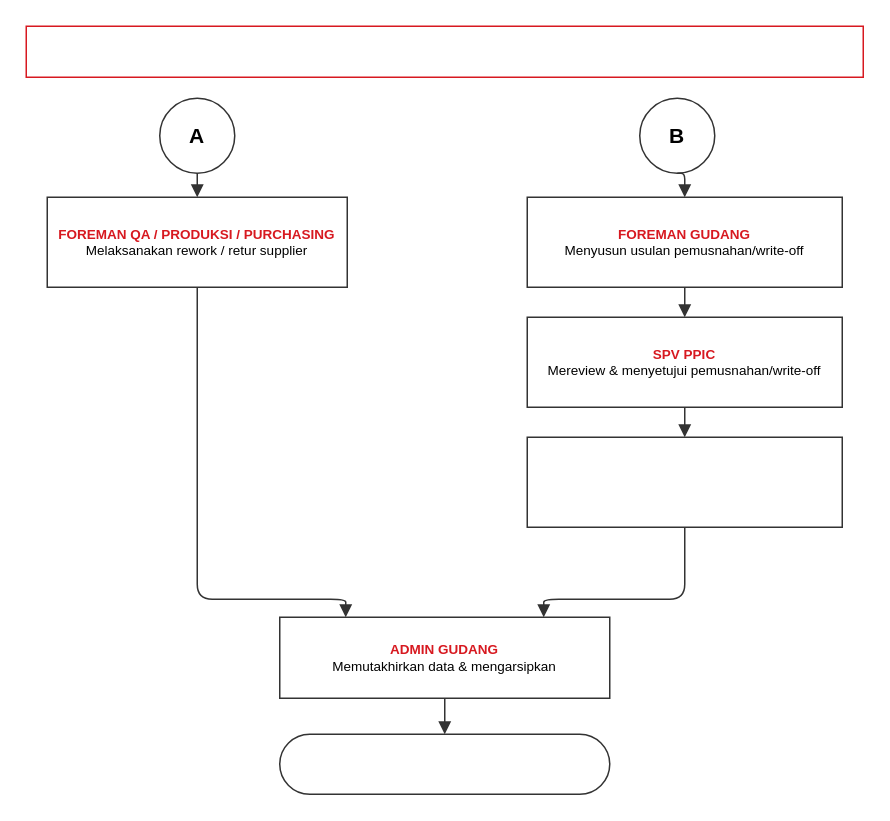
Some shapes in this 890 by 821 pixel diagram are drawn without their labels. The centre of each missing label's shape, as x and y in pixels:
SELESAI: the point at 444,763
SOP-AKSI-WH-03 PENANGANAN BARANG RUSAK/EXPIRED — BAGIAN 2/2: the point at 444,51
TIM GUDANG Melaksanakan pemusnahan & membuat berita acara: the point at 684,481
